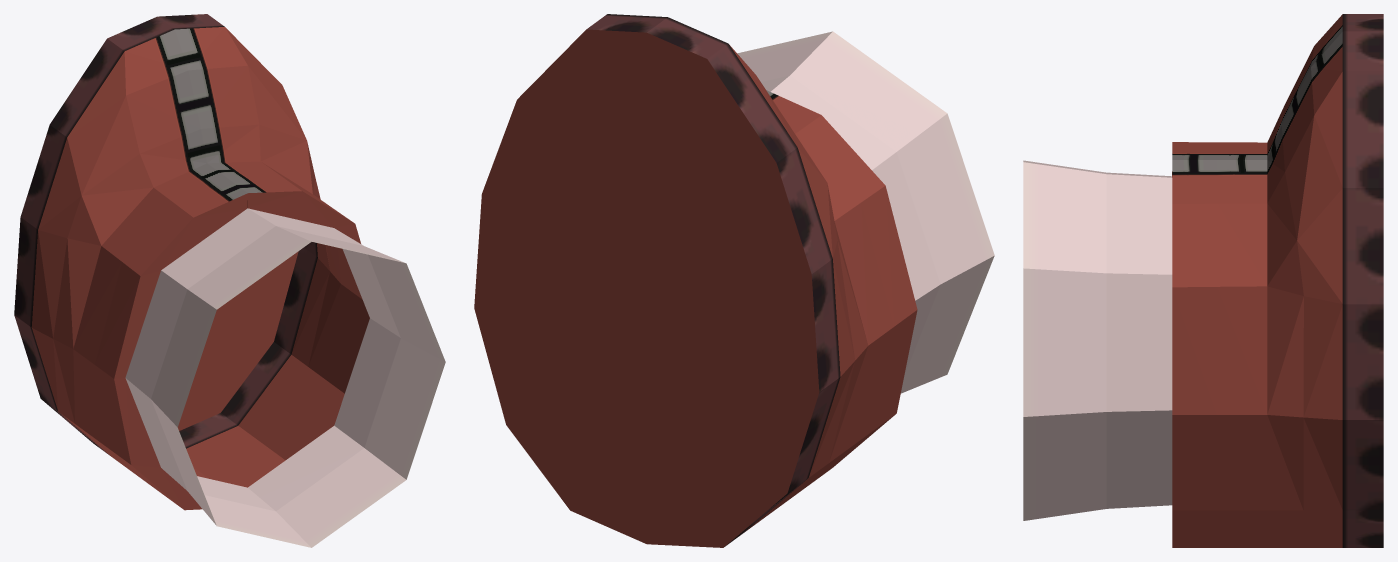
Rendered from PieIzqBufford.obj.
3 views of the same model, side by side, from view 1: azimuth 30°, elevation 25°; view 2: azimuth 150°, elevation 25°; view 3: azimuth 270°, elevation 25° (orthographic). The views are drawn at different scales.
Visible parts, largest first — view 1: Mesh_0929.rip_noesis_meshnode_0000_Mesh_0929.rip.004_Material.01; view 2: Mesh_0929.rip_noesis_meshnode_0000_Mesh_0929.rip.004_Material.01; view 3: Mesh_0929.rip_noesis_meshnode_0000_Mesh_0929.rip.004_Material.01.
Boxes of the visible parts, <box> form: Mesh_0929.rip_noesis_meshnode_0000_Mesh_0929.rip.004_Material.01: <box>14,14,445,547</box>; Mesh_0929.rip_noesis_meshnode_0000_Mesh_0929.rip.004_Material.01: <box>474,14,994,547</box>; Mesh_0929.rip_noesis_meshnode_0000_Mesh_0929.rip.004_Material.01: <box>1023,14,1383,547</box>.
Size of the model in its own units: 0.5314 by 0.7528 by 0.4969.
